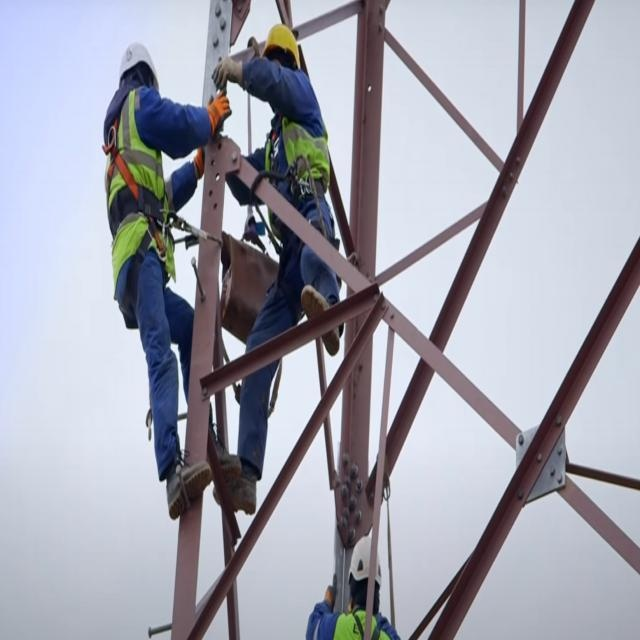Arnes_seguridad: (99, 83, 171, 336)
